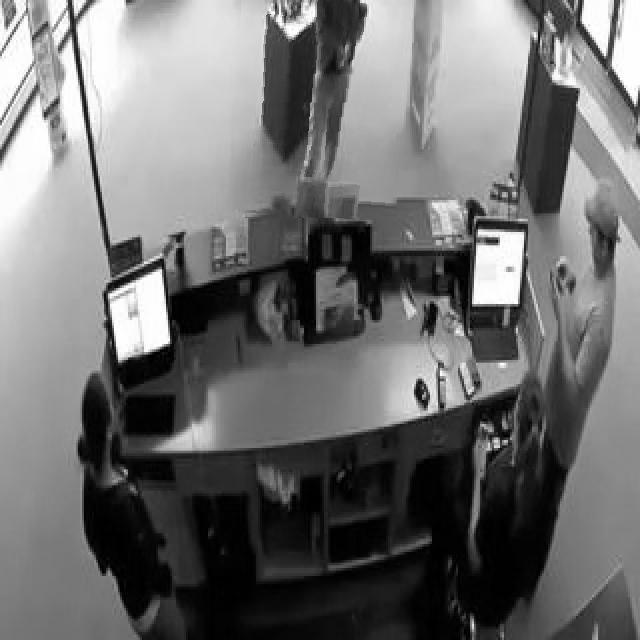Shoplifting: (231, 0, 410, 218)
